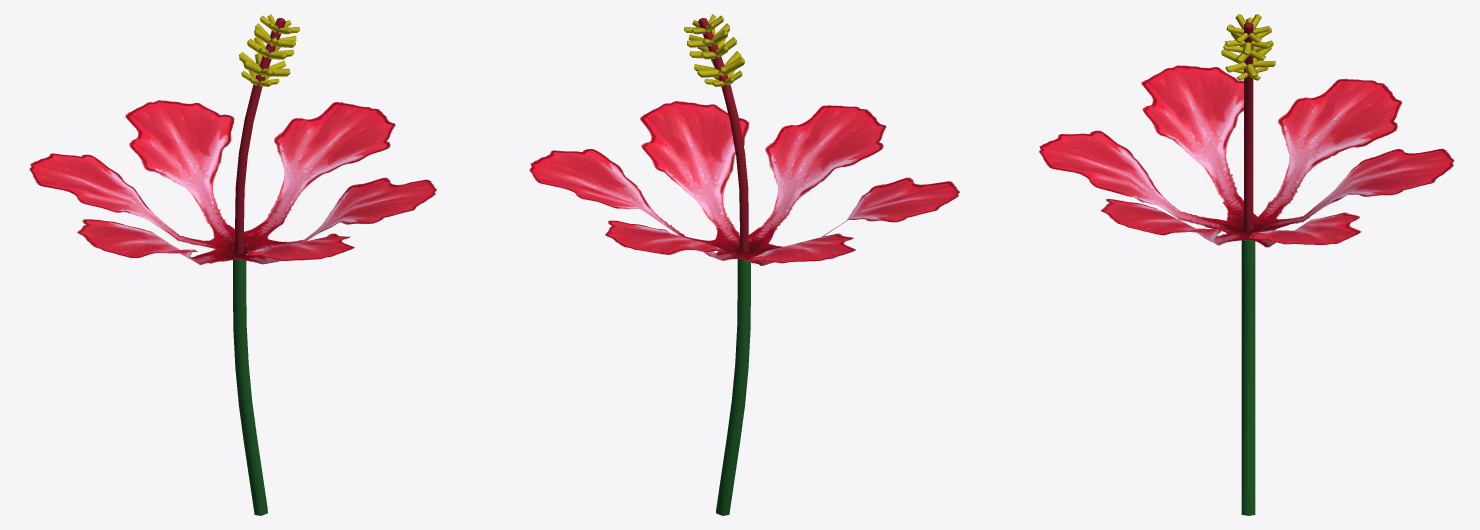
The model's file is Flower_done.fbx.
3 views of the same model, side by side, from view 1: azimuth 30°, elevation 25°; view 2: azimuth 150°, elevation 25°; view 3: azimuth 270°, elevation 25° (orthographic). The views are drawn at different scales.
Visible parts, largest first — view 1: Main, Bottom, Pollen, Top; view 2: Main, Bottom, Pollen, Top; view 3: Main, Bottom, Pollen, Top.
Part boxes in pixels (box(x1,y1,x2,y2)): Main: box(29, 100, 436, 265); Bottom: box(233, 259, 267, 515); Pollen: box(239, 14, 299, 86); Top: box(235, 18, 285, 253); Main: box(529, 101, 959, 265); Bottom: box(716, 259, 750, 515); Pollen: box(684, 14, 744, 86); Top: box(698, 18, 748, 251); Main: box(1039, 65, 1454, 247); Bottom: box(1241, 240, 1255, 515); Pollen: box(1221, 14, 1275, 80); Top: box(1244, 22, 1253, 231).
Size of the model in its own units: 1 by 1.24 by 1.
